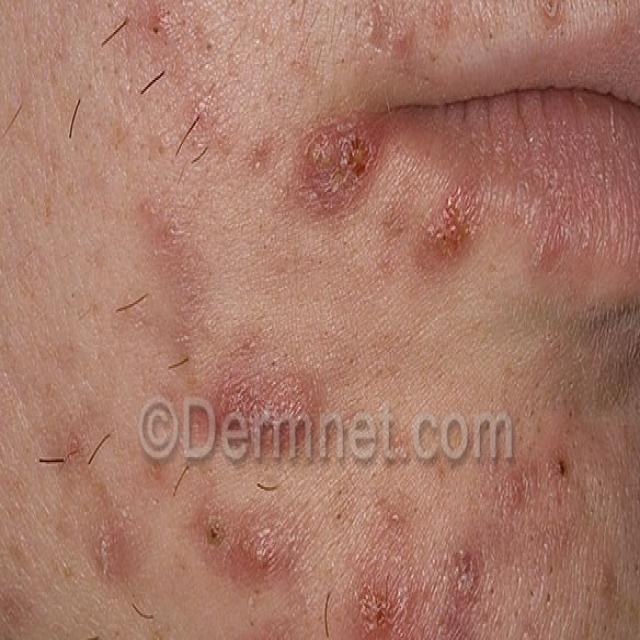Acne: (455, 463, 597, 573), (143, 4, 218, 180), (353, 4, 593, 57), (215, 348, 324, 448), (293, 97, 380, 221), (413, 149, 483, 288), (205, 496, 301, 586), (351, 542, 423, 640)
